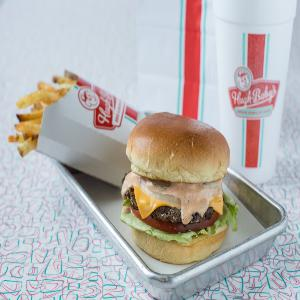cheeseburger: (122, 109, 239, 261)
